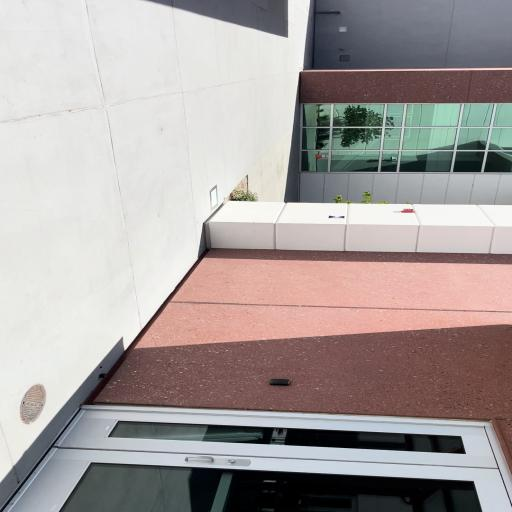target6: (327, 215, 345, 219)
